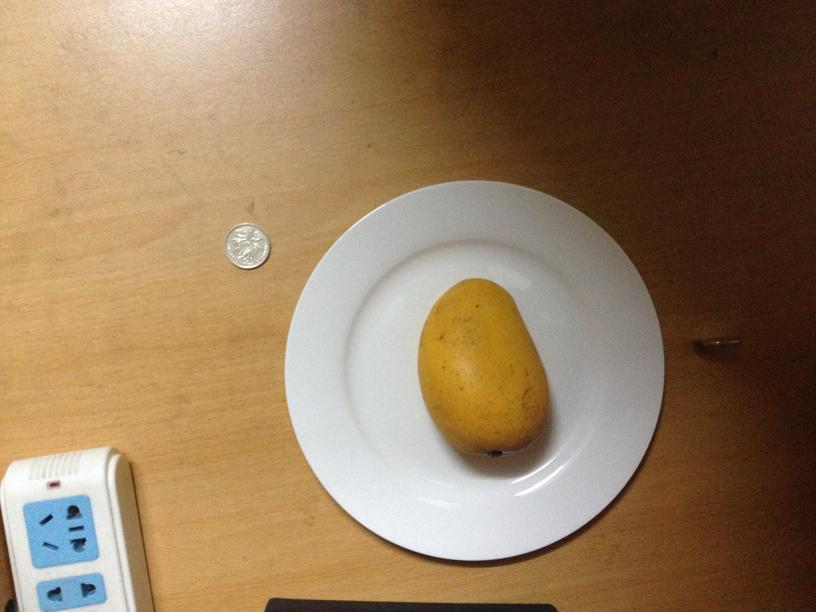coin: (223, 221, 269, 269)
mango: (421, 277, 549, 457)
